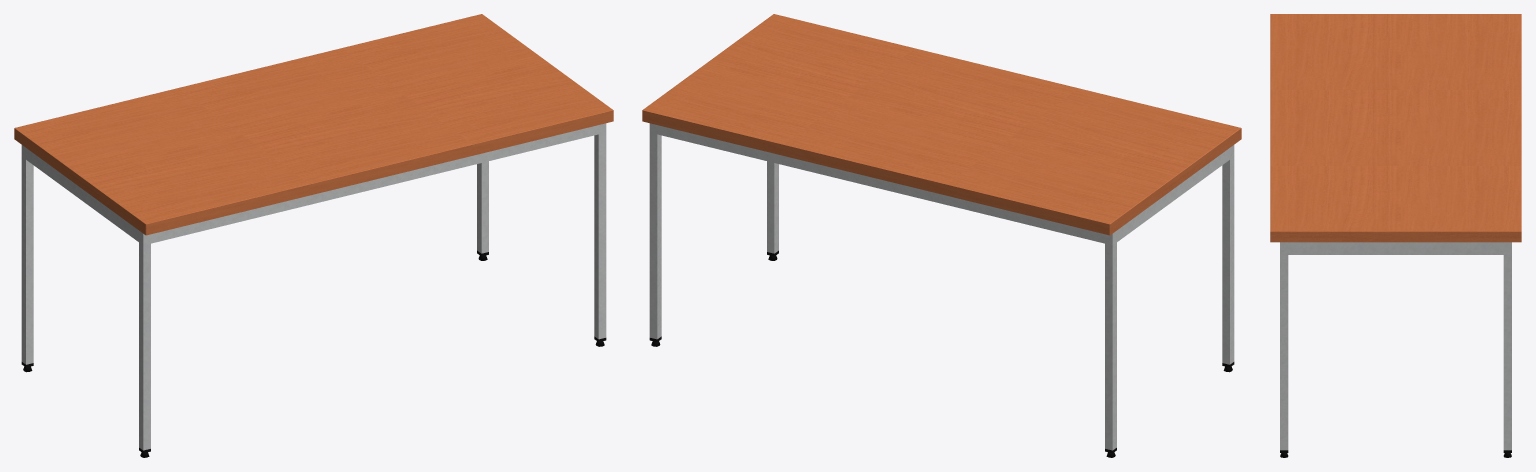
File: Table_04.dae
3 renders of one model, left to right at view 1: azimuth 30°, elevation 25°; view 2: azimuth 150°, elevation 25°; view 3: azimuth 270°, elevation 25°, orthographic. The views are drawn at different scales.
Visible parts, largest first — view 1: Table_04; view 2: Table_04; view 3: Table_04.
Part boxes in pixels (x1,y1,x2,y2): Table_04: (14, 14, 613, 457); Table_04: (642, 14, 1241, 457); Table_04: (1270, 14, 1521, 457).
Size of the model in its own units: 1.54 by 0.751 by 0.7504.
3 materials, 3 textured.
